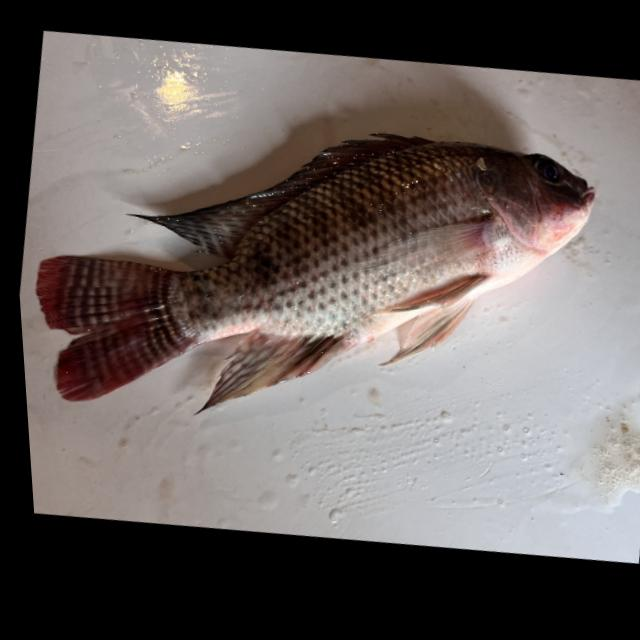Tilapia: (7, 66, 617, 488)
